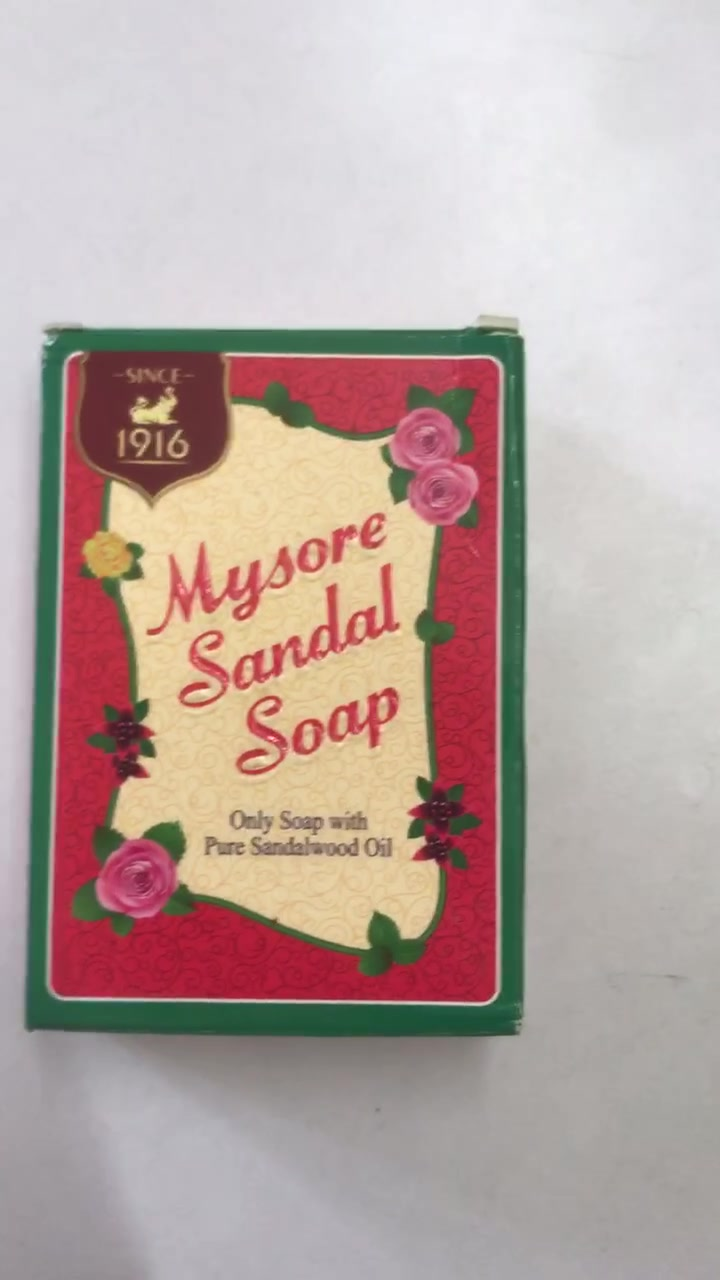mysore sandal soap: (28, 330, 530, 1037)
